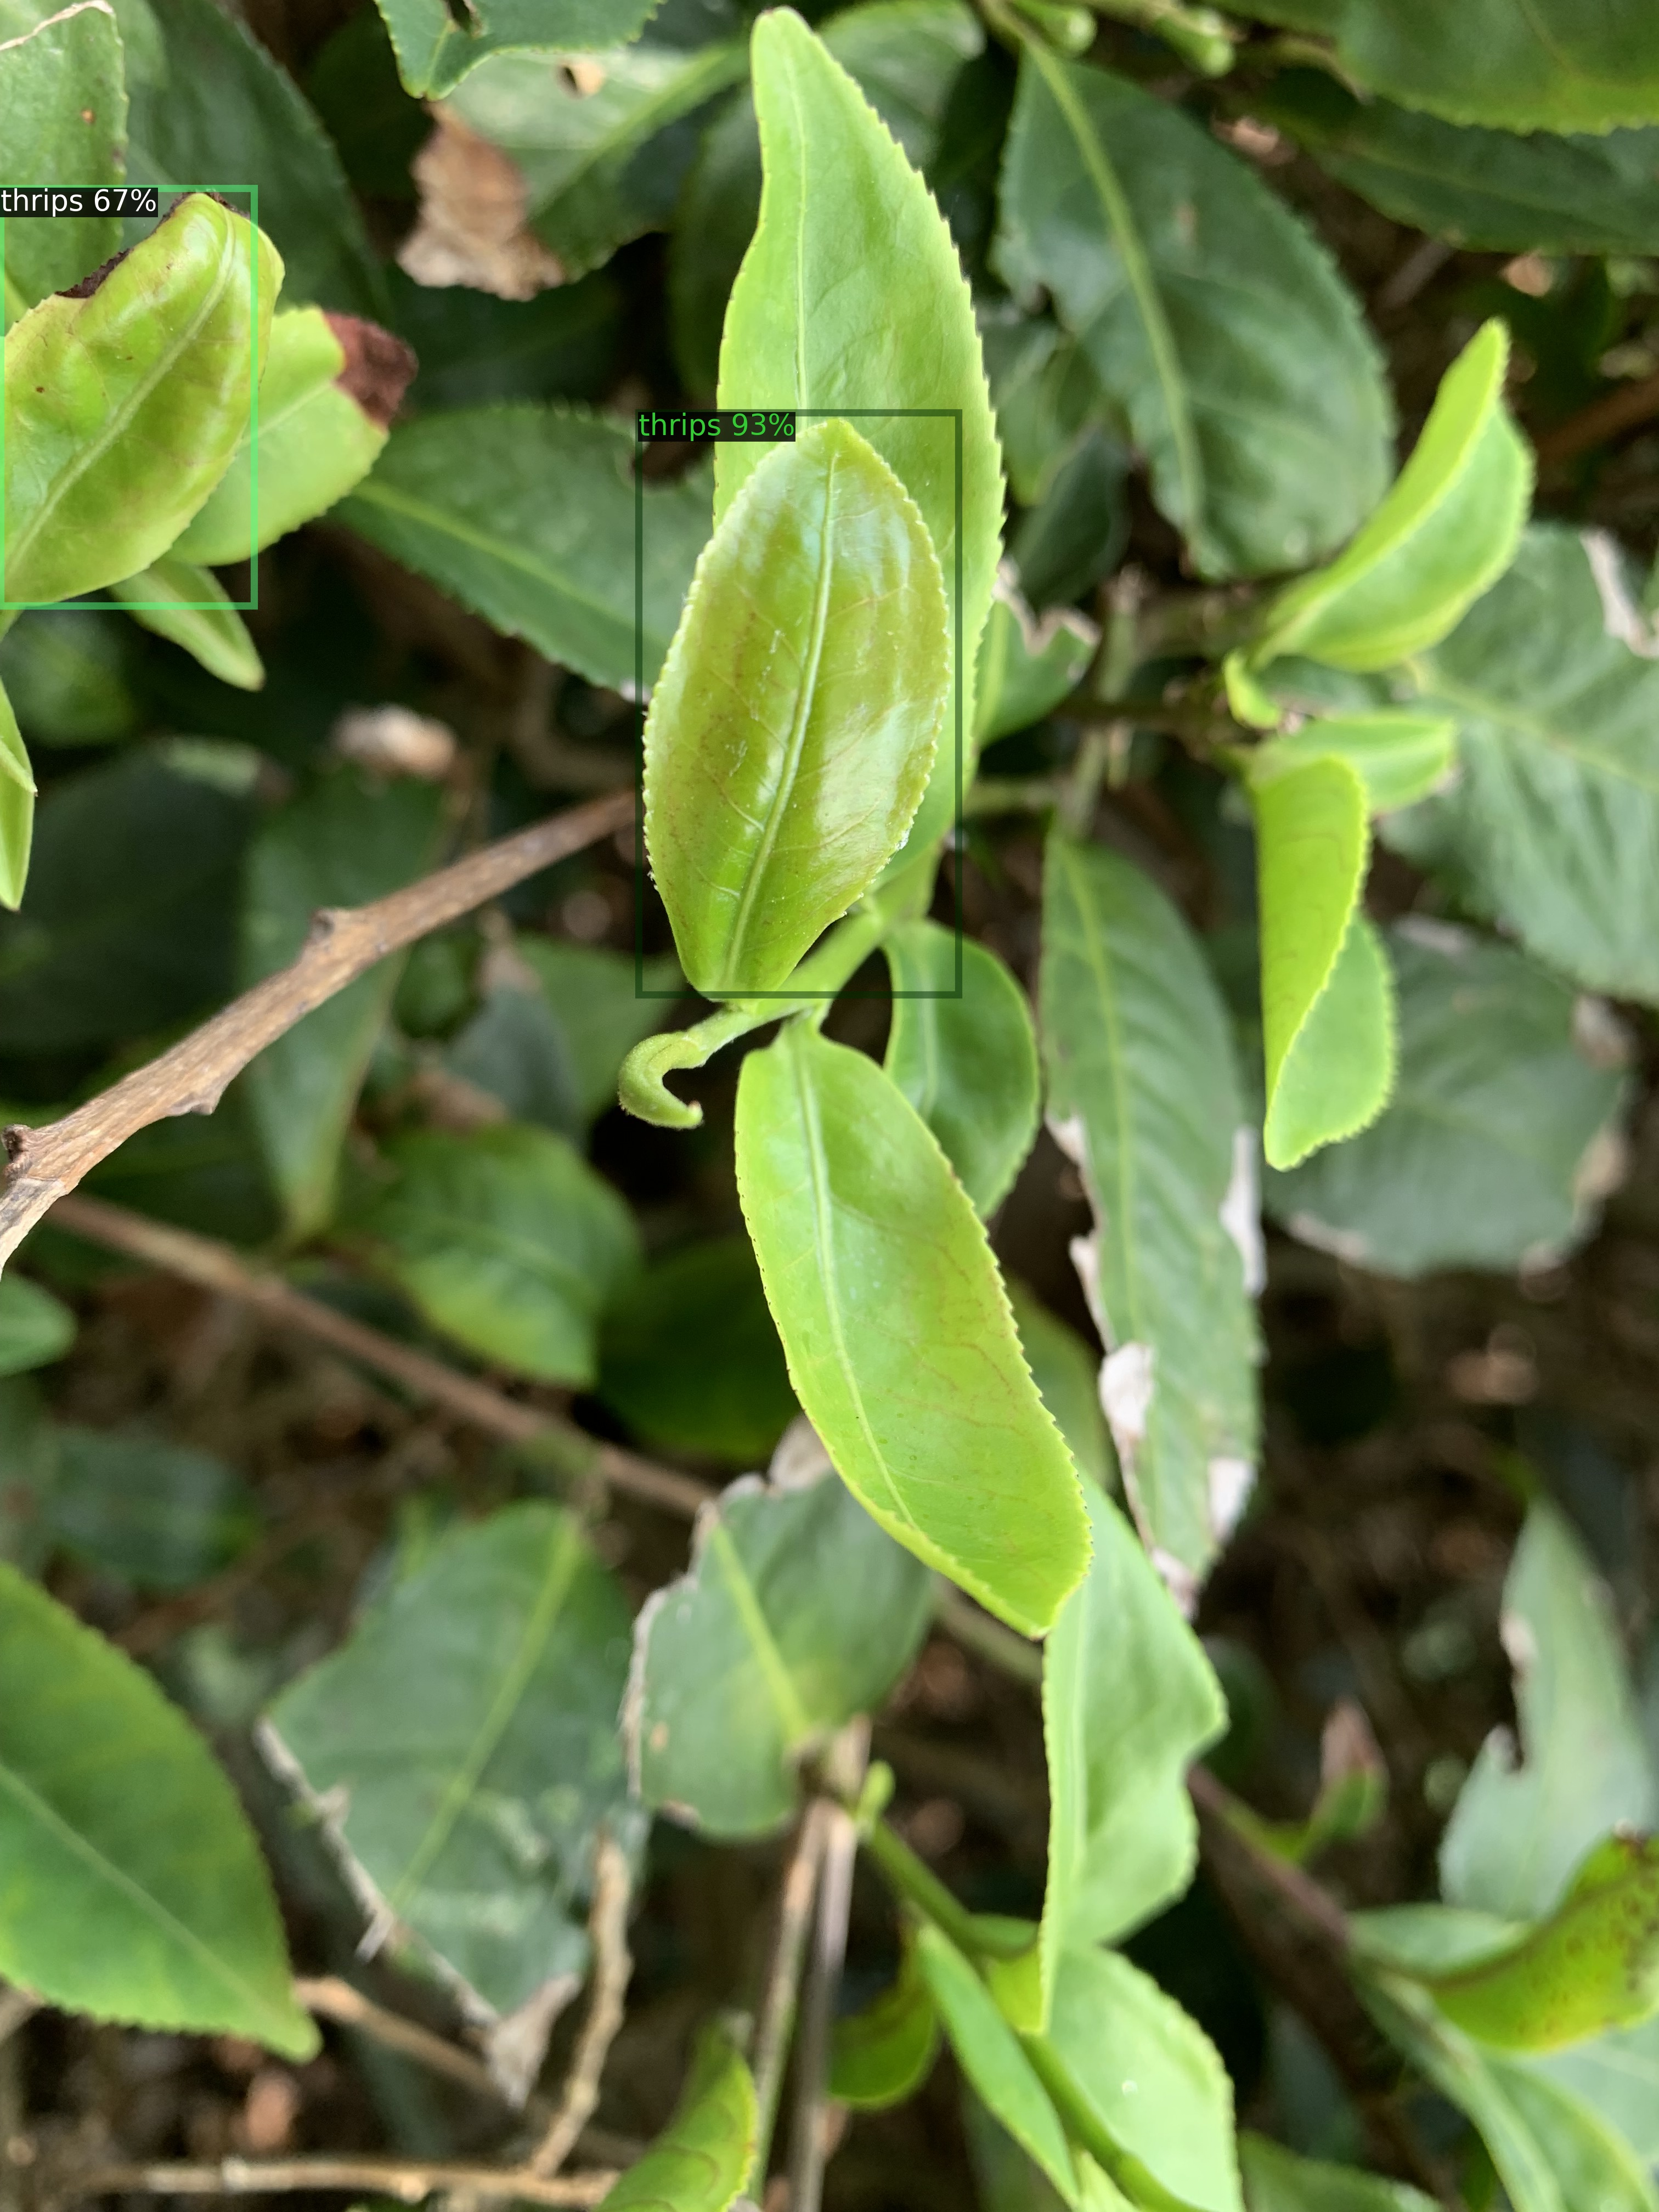thrips: (638, 413, 958, 995), (0, 188, 253, 604)
